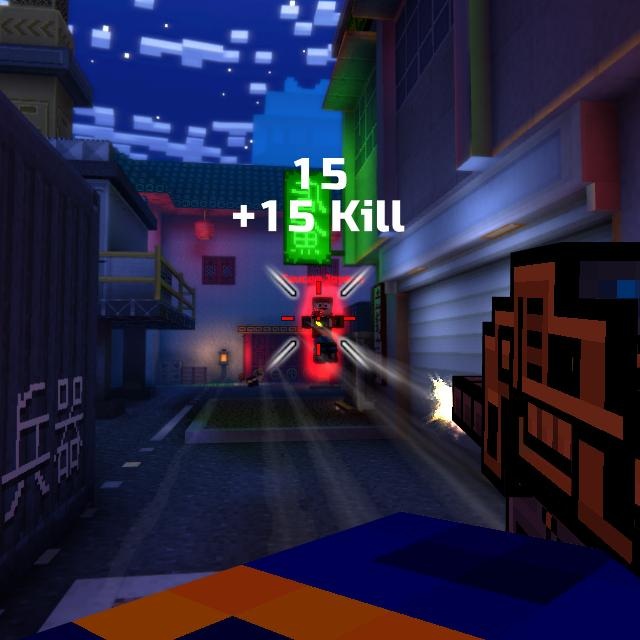Enemy: (303, 299, 346, 367)
